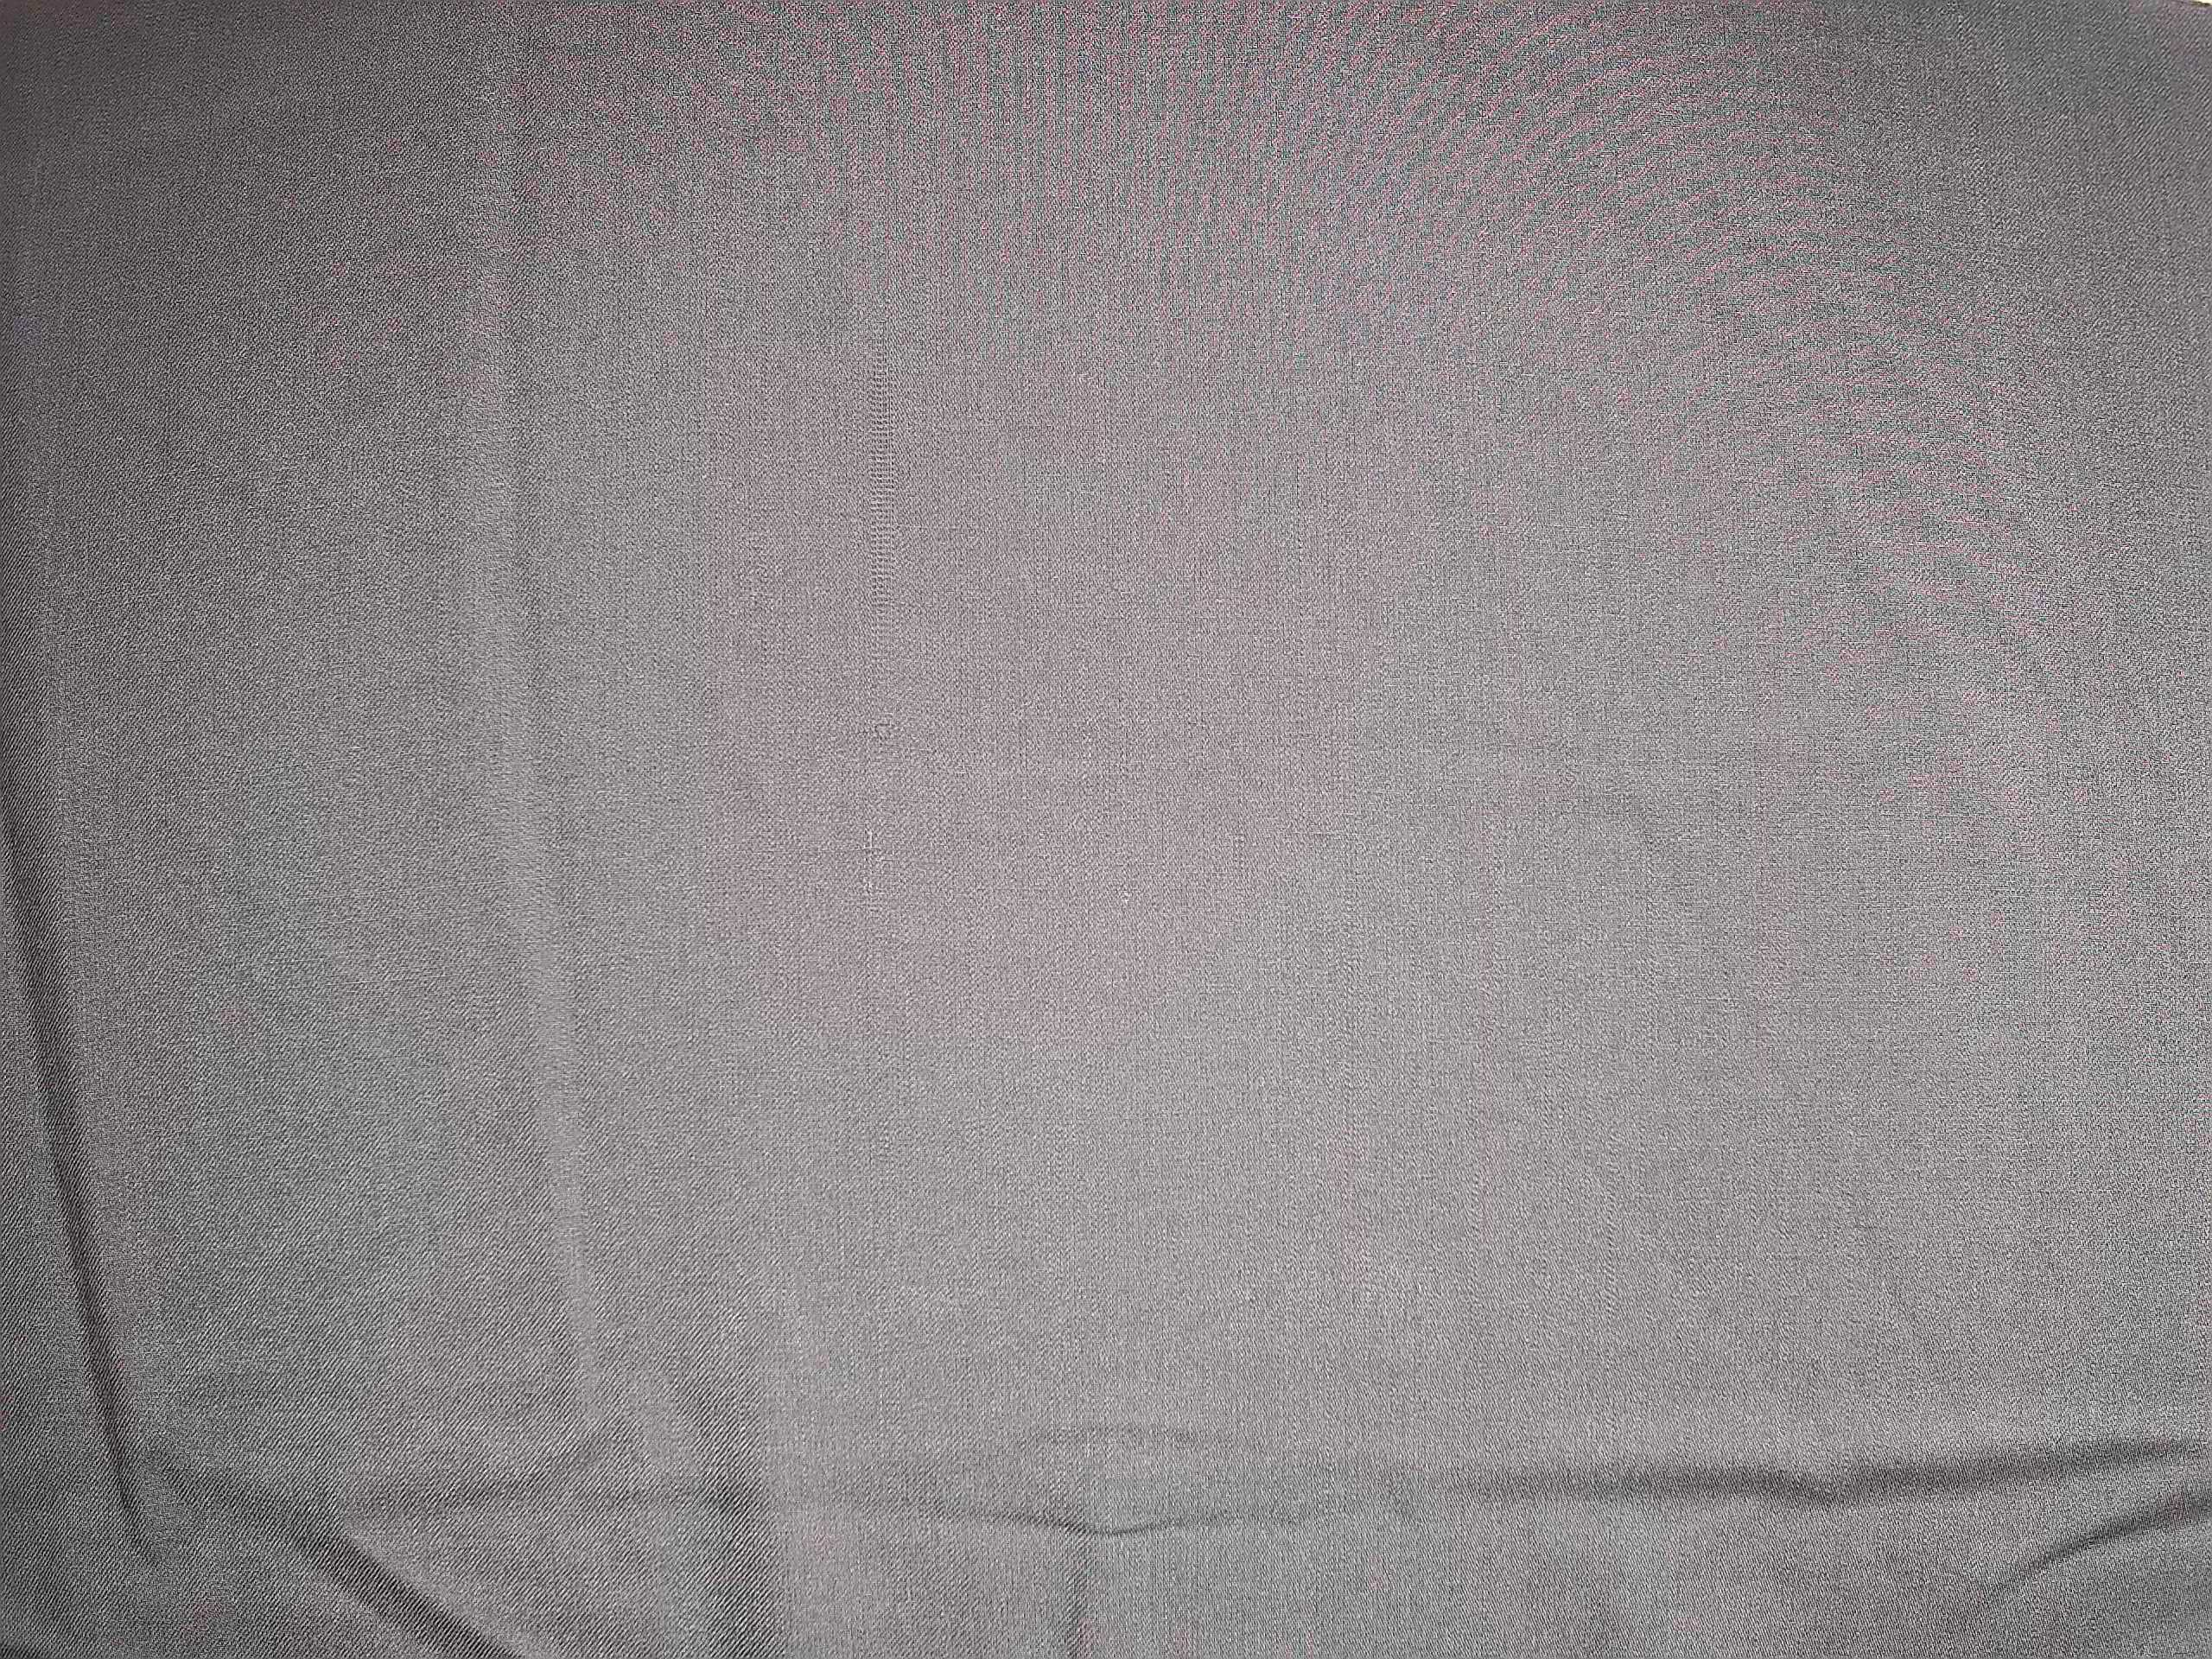hanging-warp: (855, 268, 907, 903)
